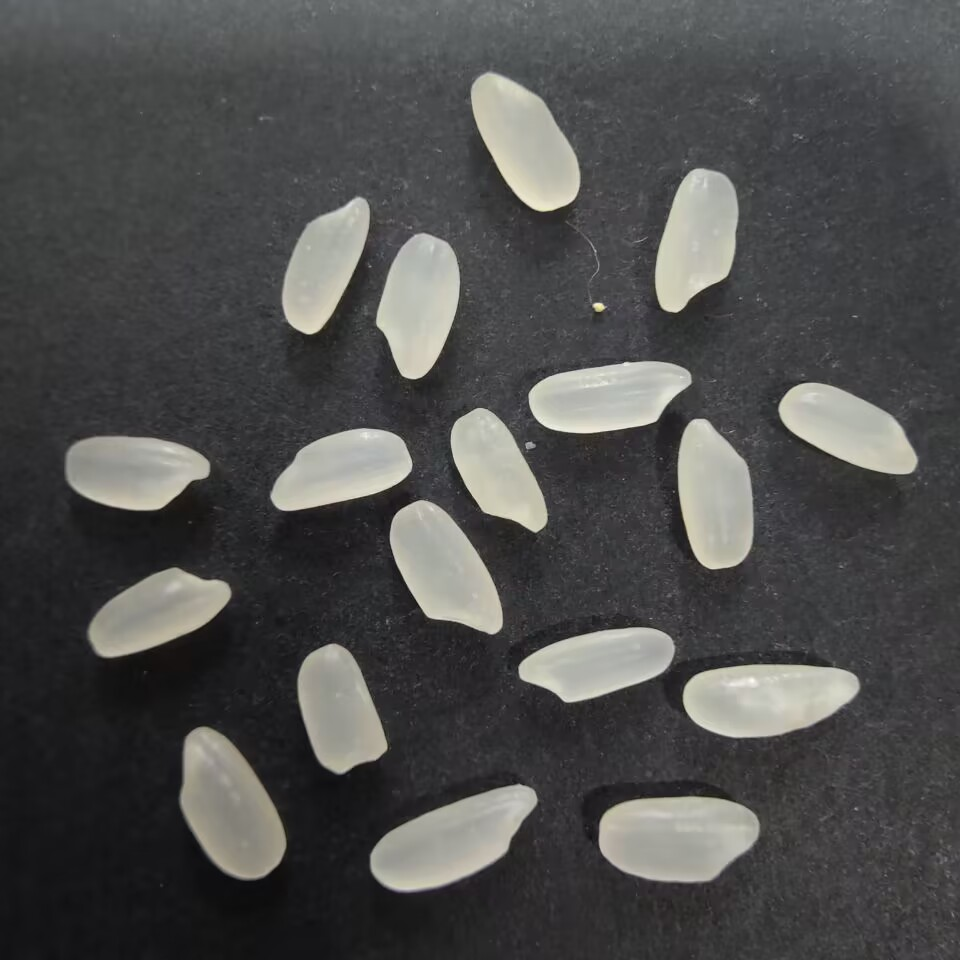broken: (292, 637, 390, 779)
rice: (367, 775, 541, 903), (170, 721, 291, 882), (467, 65, 584, 217), (588, 790, 762, 888), (387, 497, 504, 637), (82, 562, 237, 664), (772, 376, 923, 479), (679, 658, 866, 740), (277, 190, 377, 342), (509, 619, 679, 707), (264, 419, 417, 516), (373, 228, 465, 386), (652, 164, 745, 315), (523, 355, 695, 436), (55, 431, 217, 516), (447, 404, 548, 540), (675, 413, 757, 573)
